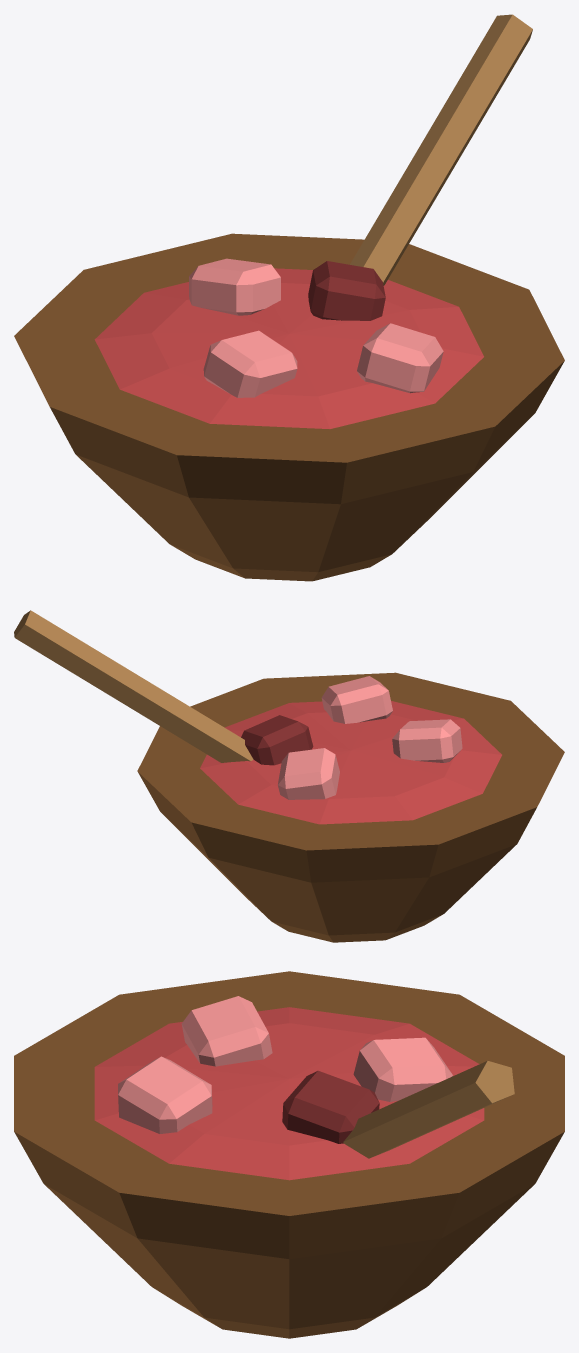
The model's file is bowl.glb.
The picture shows the model from 3 angles, top to bottom: view 1: azimuth 30°, elevation 25°; view 2: azimuth 150°, elevation 25°; view 3: azimuth 270°, elevation 25°; orthographic projection. The views are drawn at different scales.
Parts seen in each view (by area): view 1: bowl; view 2: bowl; view 3: bowl.
Part boxes in pixels (x1=…): bowl: x1=14, y1=14, x2=564, y2=581; bowl: x1=14, y1=610, x2=564, y2=942; bowl: x1=14, y1=971, x2=564, y2=1338.
Size of the model in its own units: 0.3369 by 0.2091 by 0.2663.
